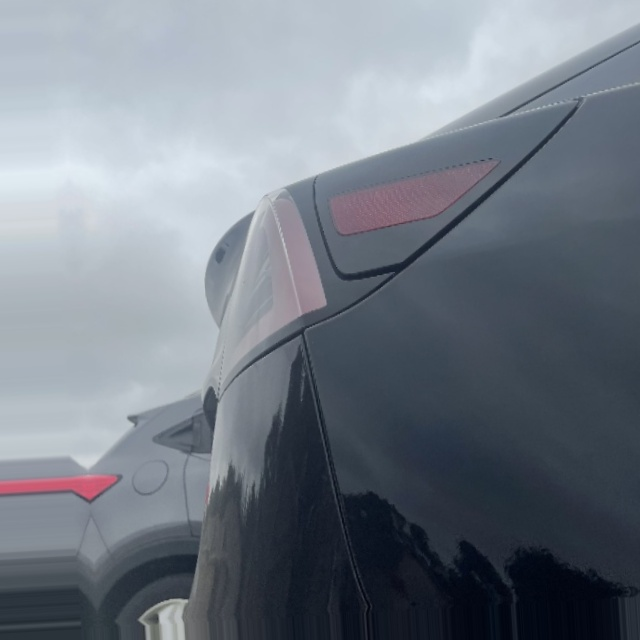reflector: (324, 158, 505, 235)
